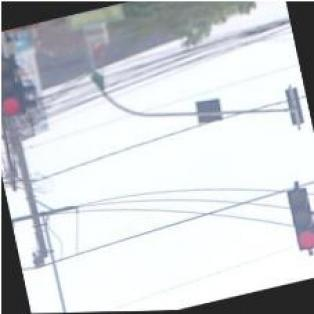Semaforo Rojo: (285, 185, 314, 254), (0, 53, 25, 119)
